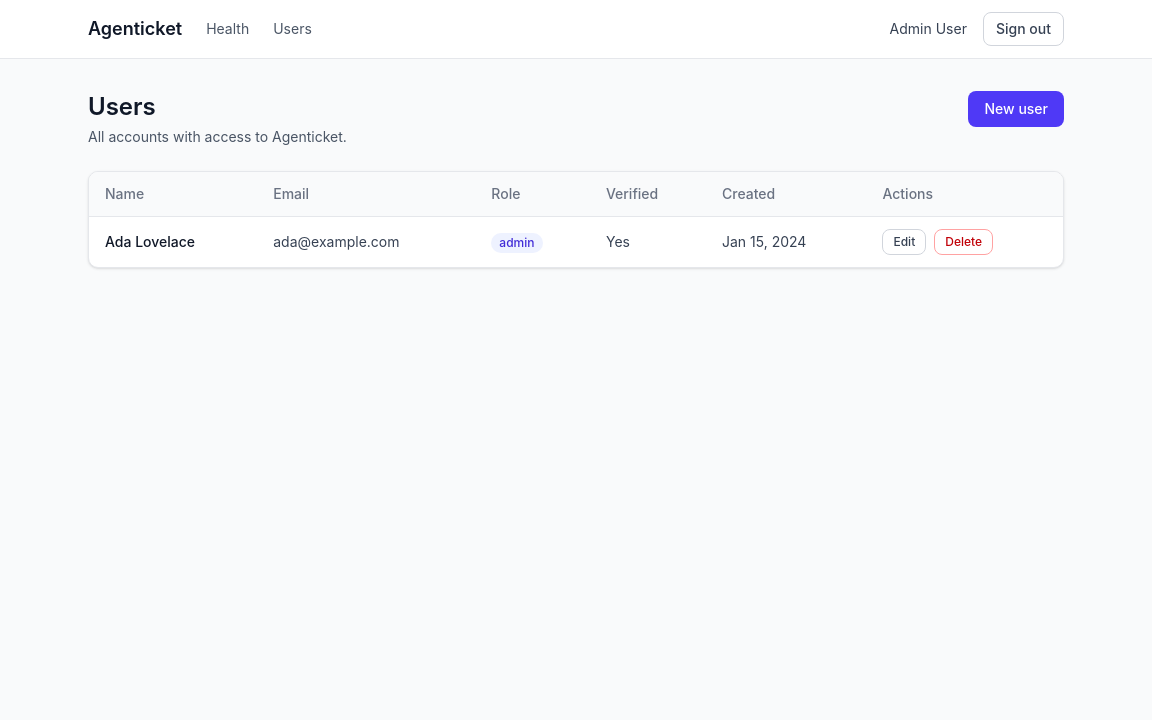
Test: Users page › opens the delete confirmation when Delete is clicked
The width and height of the screenshot is (1152, 720).
Click the button "Delete" at point(964, 242), box [934,229,993,255]
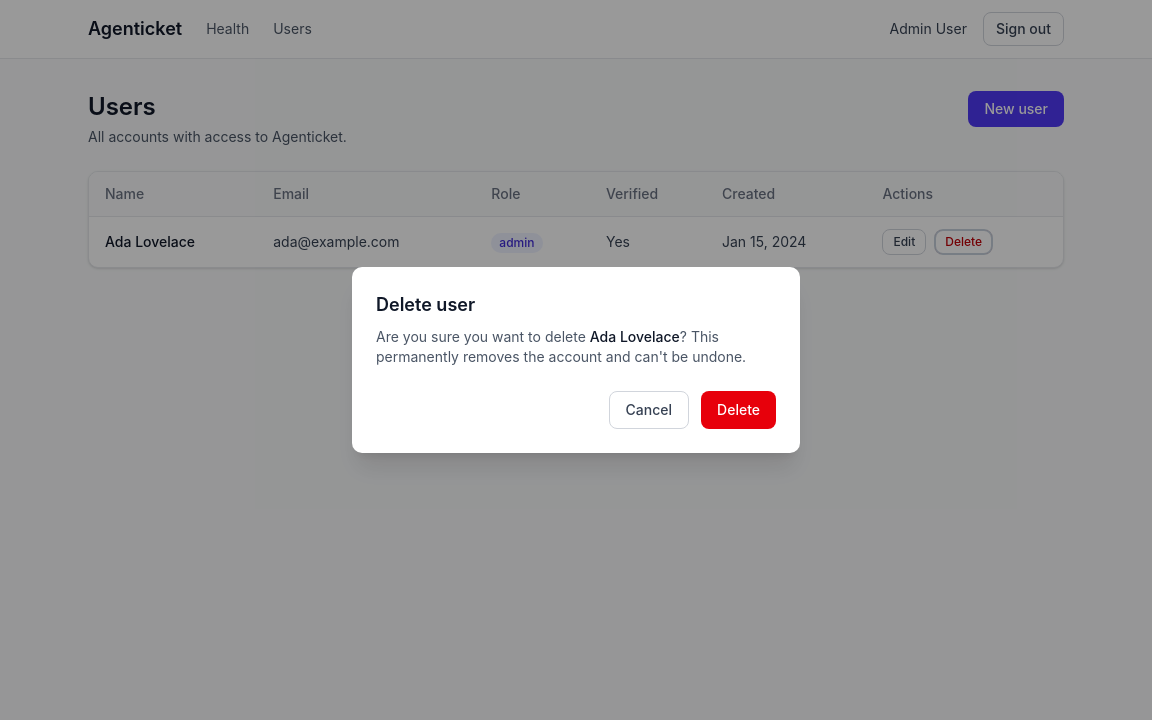
Expected: the dialog "Delete user" shows "Ada Lovelace", [590,328,680,345]
